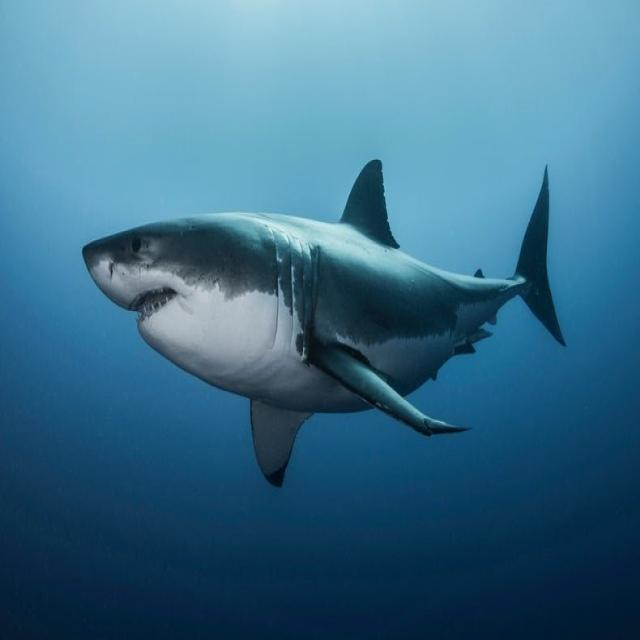shark: (82, 160, 563, 485)
